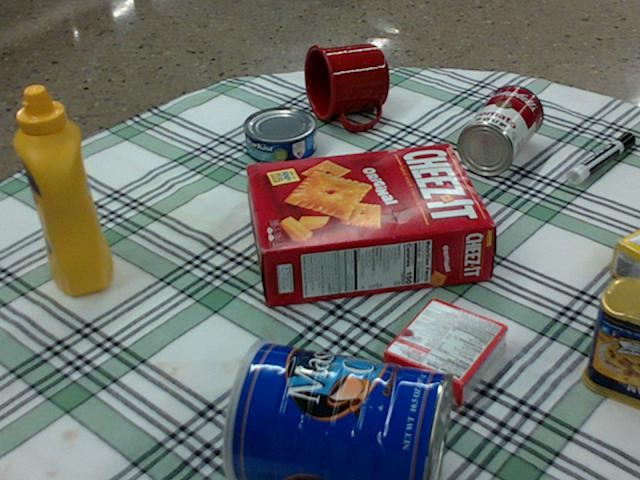cracker_box: (247, 145, 492, 306)
gelatin_box: (383, 298, 508, 403)
large_marker: (566, 133, 634, 182)
master_chef_can: (223, 342, 451, 479)
mug: (302, 44, 389, 128)
mustard_bottle: (13, 85, 112, 295)
potted_meat_can: (582, 274, 639, 406)
sugar_box: (612, 232, 639, 291)
tomato_soup_can: (456, 84, 542, 174)
tuna_fish_can: (242, 106, 315, 164)
